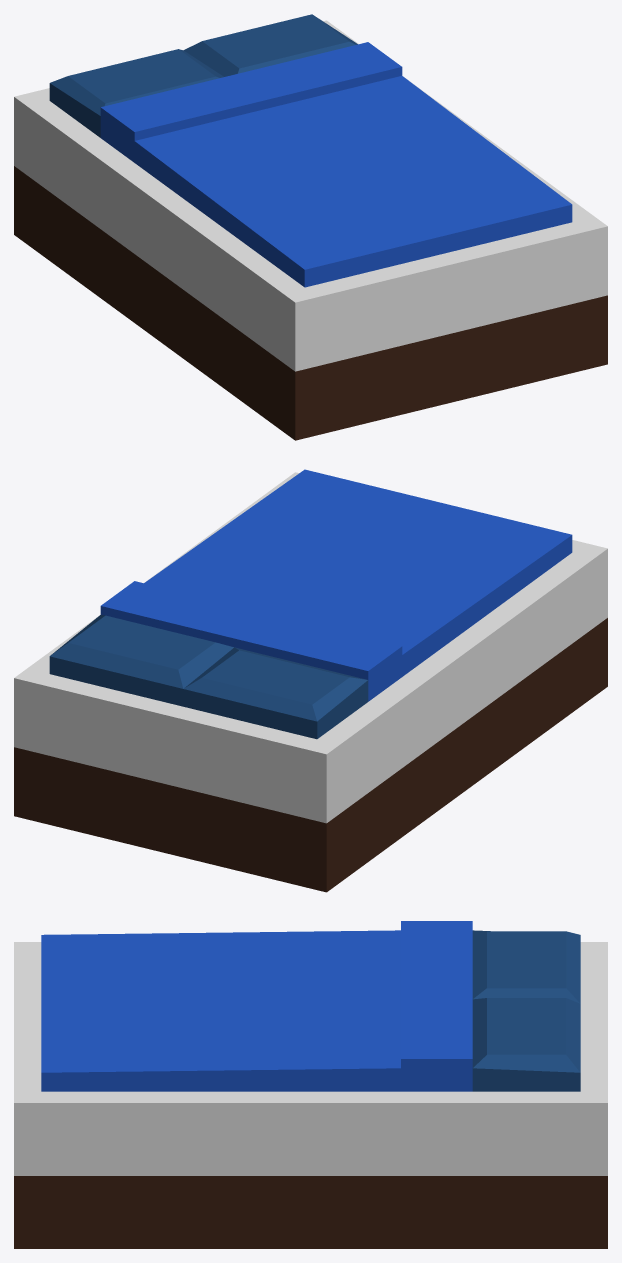
Rendered from BedTest_Furniture.fbx.
3 renders of one model, top to bottom at view 1: azimuth 30°, elevation 25°; view 2: azimuth 150°, elevation 25°; view 3: azimuth 270°, elevation 25°, orthographic. The views are drawn at different scales.
Parts seen in each view (by area): view 1: Bed; view 2: Bed; view 3: Bed.
Boxes of the visible parts, left/top/right/bottom form: Bed: left=14, top=14, right=607, bottom=440; Bed: left=14, top=469, right=607, bottom=892; Bed: left=14, top=921, right=607, bottom=1248.
Size of the model in its own units: 139 by 71.72 by 216.
